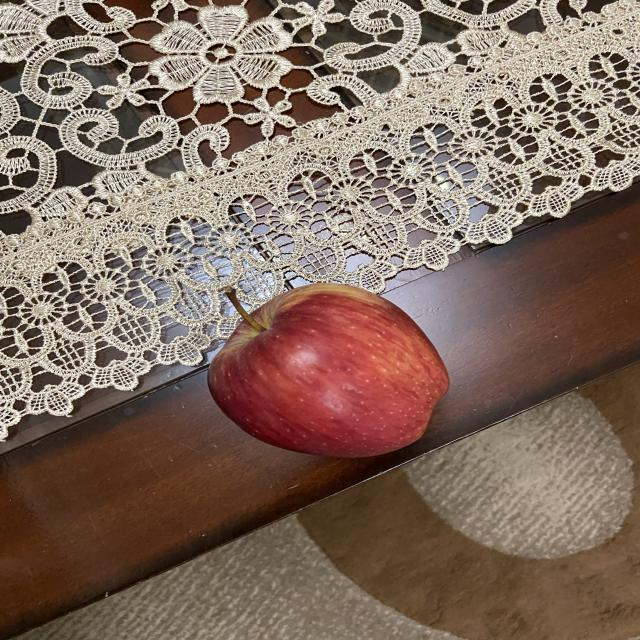apple: (200, 270, 448, 460)
